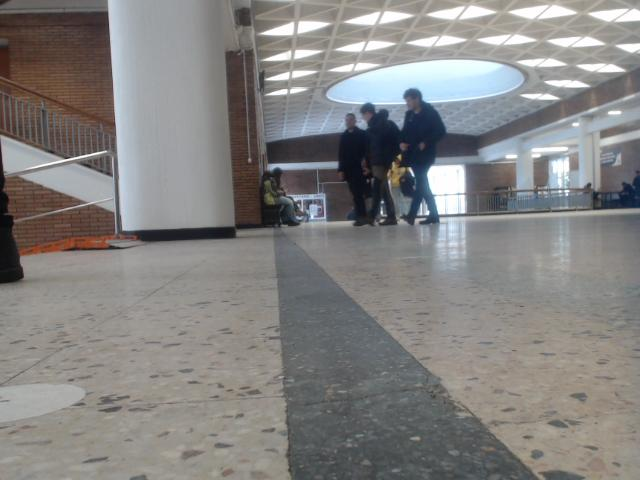rampDown: (21, 235, 144, 255)
ramps-railing: (5, 151, 120, 233)
